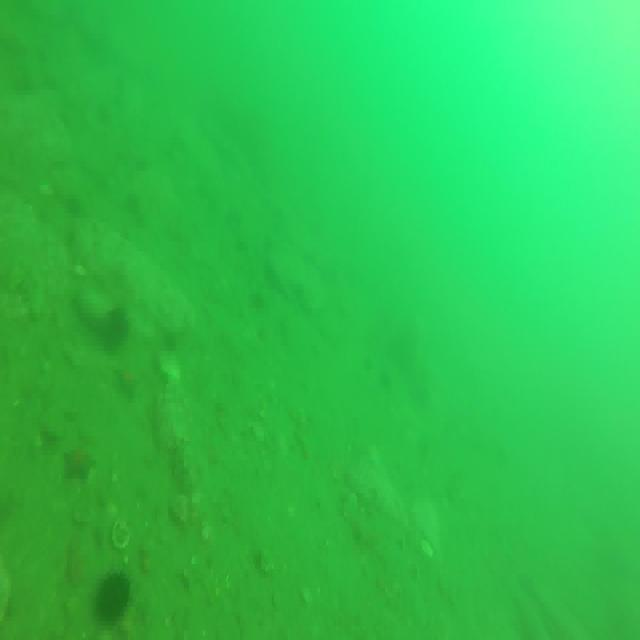echinus: (98, 574, 132, 624), (107, 304, 131, 350)
starfish: (64, 447, 94, 482), (116, 365, 140, 398)
